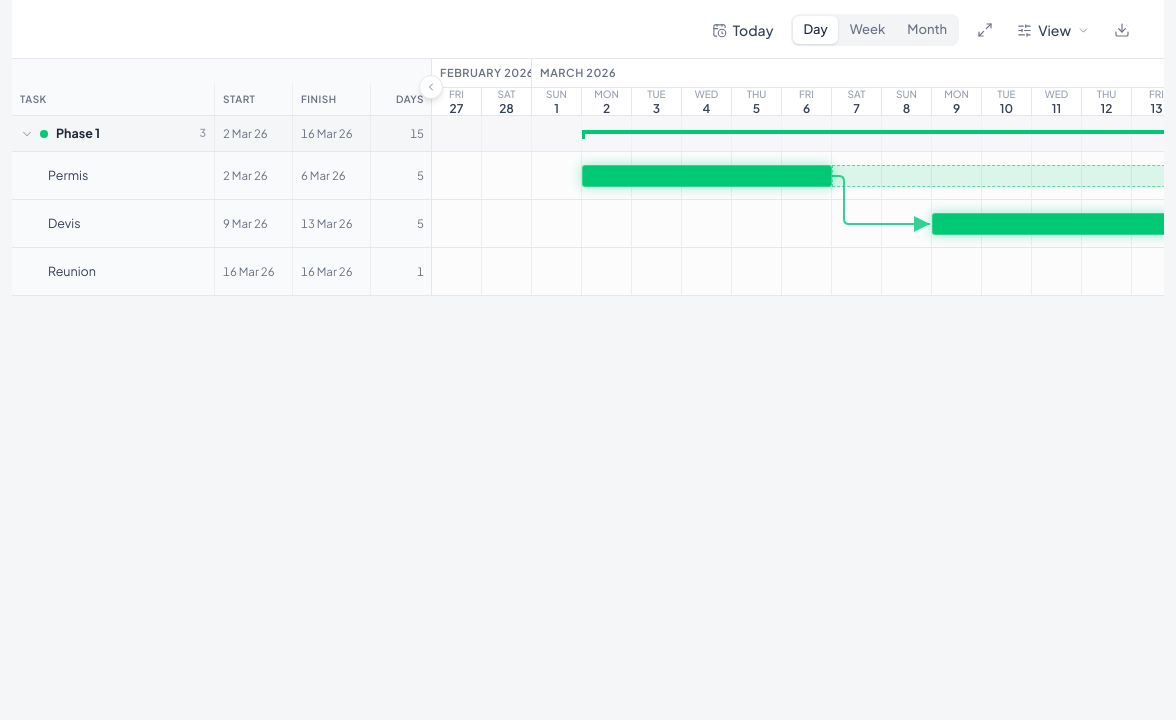
Test: GanttChart baselines › can still re-capture once a baseline exists
This screenshot has width=1176, height=720.
Click the button "View" at coordinates (1054, 30), box [1007,14,1100,46]
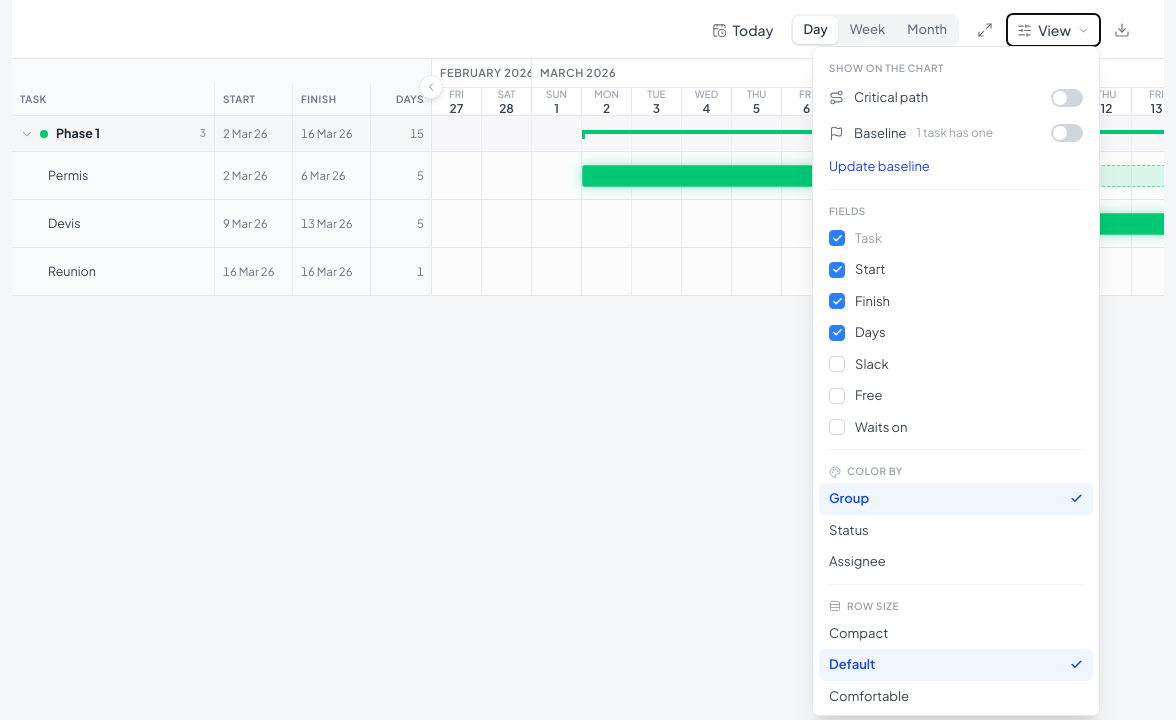
Now the button "Update baseline" is shown, box [819,151,1093,182]
